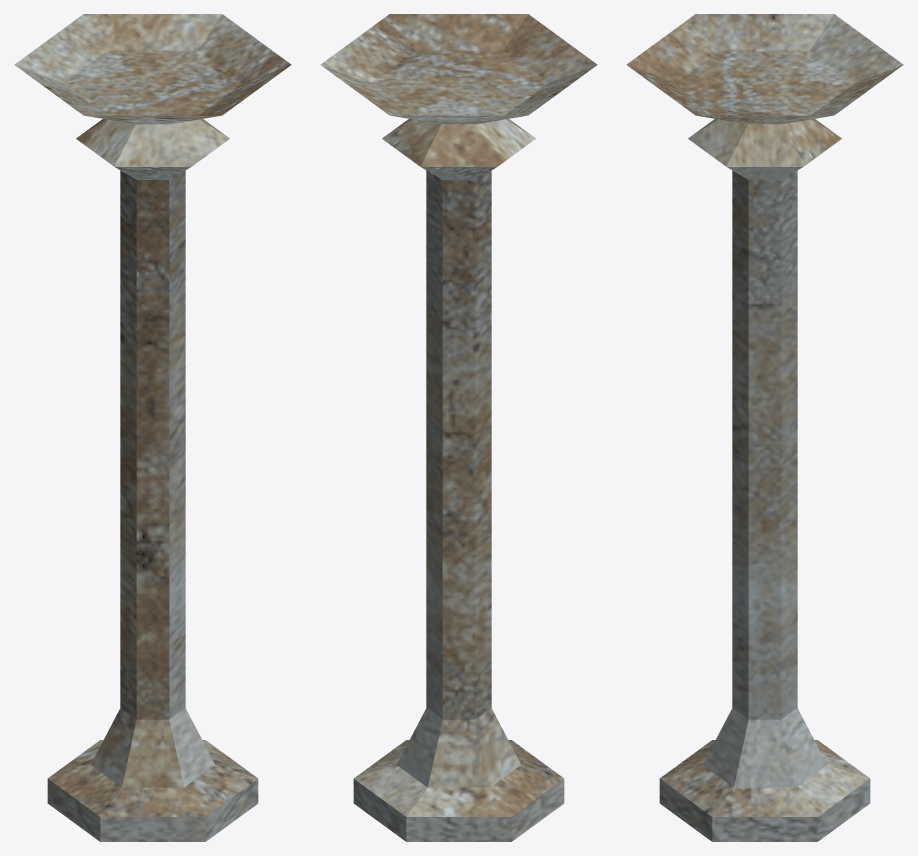
File: FireHolder.fbx
The picture shows the model from 3 angles, left to right: view 1: azimuth 30°, elevation 25°; view 2: azimuth 150°, elevation 25°; view 3: azimuth 270°, elevation 25°; orthographic projection.
Parts seen in each view (by area): view 1: Circle.115; view 2: Circle.115; view 3: Circle.115.
Part boxes in pixels (<box>): Circle.115: <box>14,14,291,841</box>; Circle.115: <box>320,14,597,841</box>; Circle.115: <box>626,14,903,841</box>.
Size of the model in its own units: 42.93 by 146 by 49.57.
